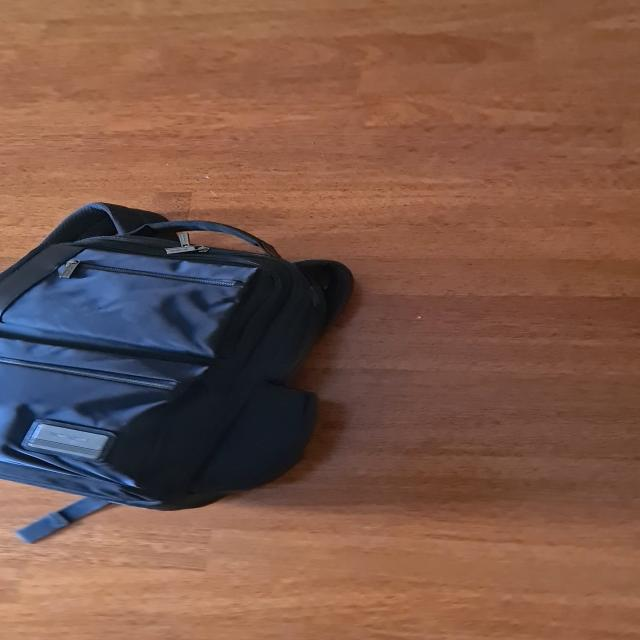backpack: (0, 199, 361, 526)
